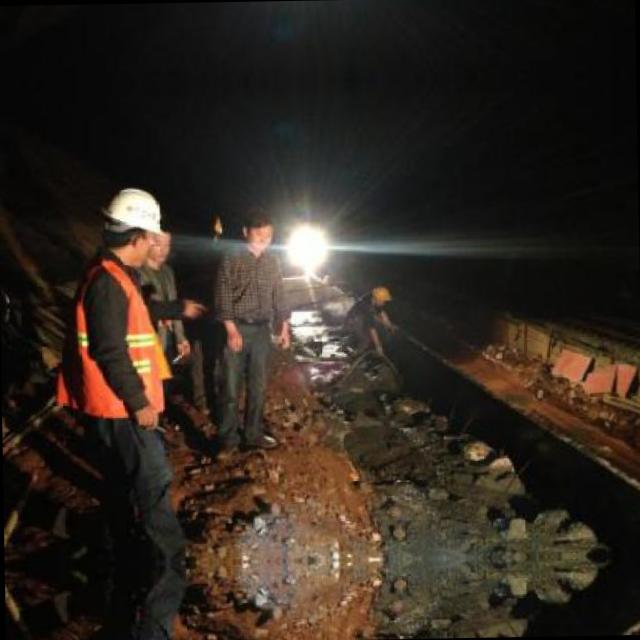helmet: (102, 183, 163, 267), (368, 283, 391, 306)
